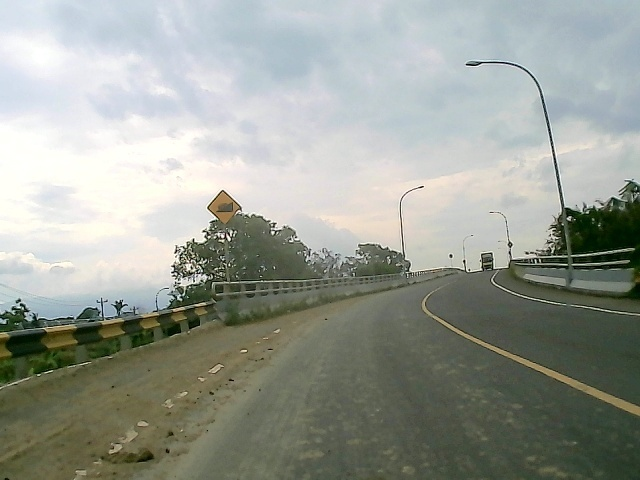Jalanan menanjak: (204, 189, 244, 226)
